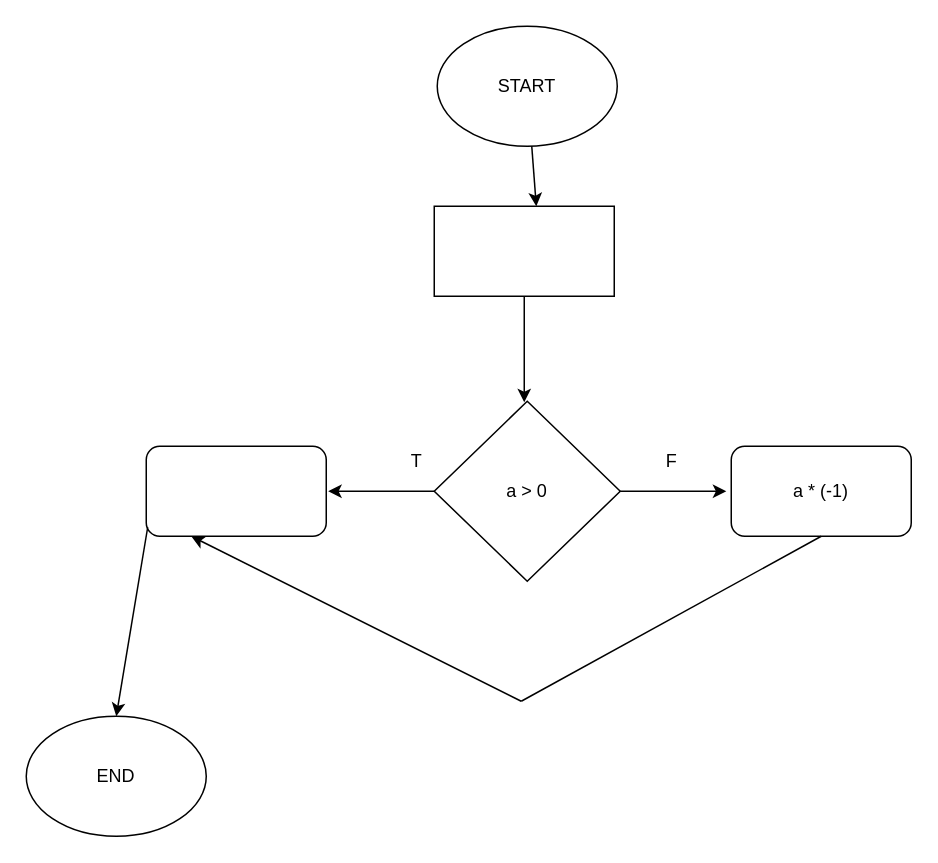
This 938x863 diagram has some shape labels left out. Here are the shapes that lost their labels. From the top down, the centre of each, then its label:
(523,250): a = input()
(235,490): Wypisz a
